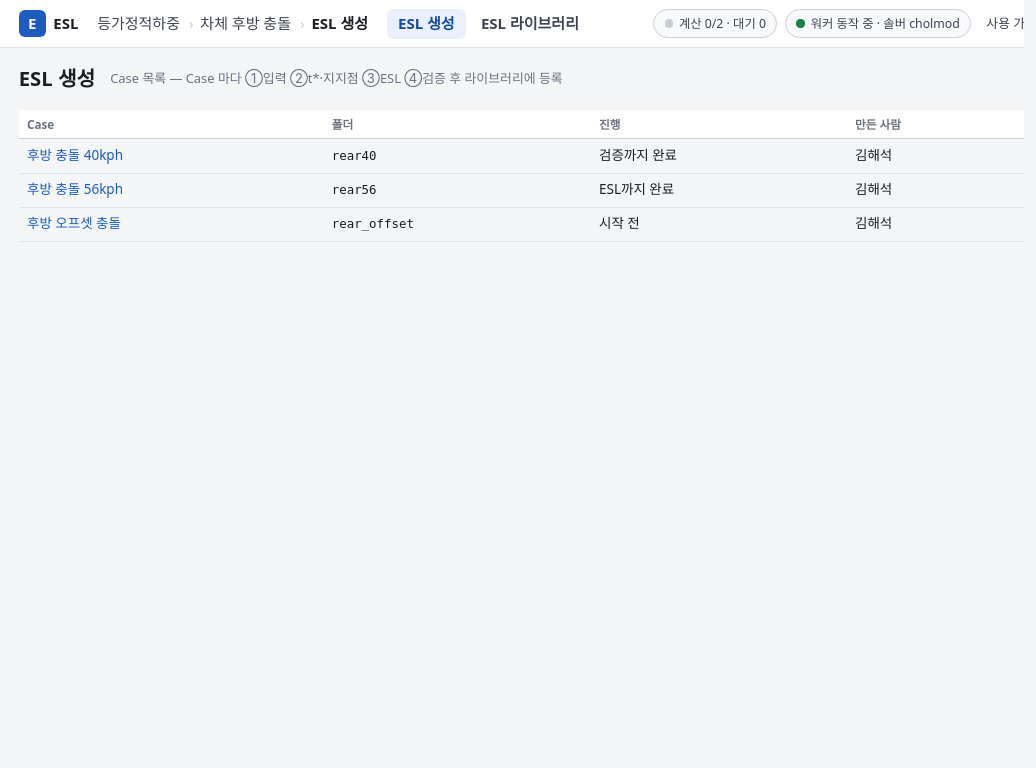
Test: V-L3-12 상태 칩·서랍 › localStorage 예외(읽기·쓰기) → 닫힘으로 동작하고 오류 없음
Expected: the element "실행 상태" is not shown
Step 1. Click the button with test id "chip-queue" → coordinates (715, 24), box 653,9 -> 778,38
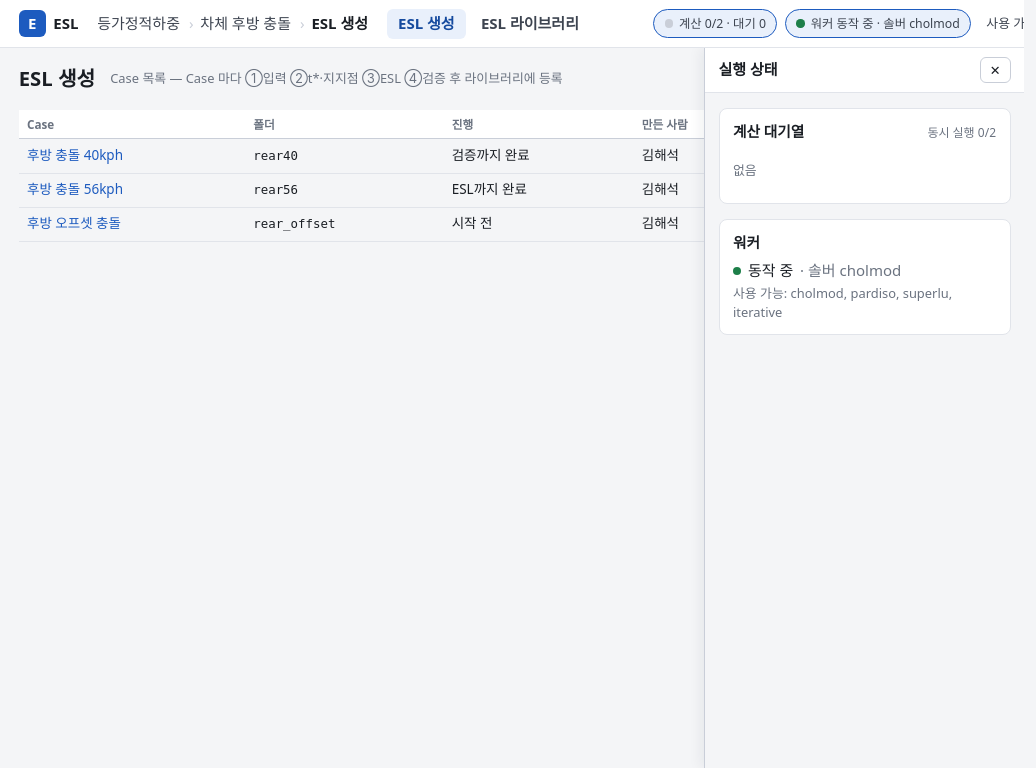
Result: the element "실행 상태" is shown at 704,48 -> 1024,767
